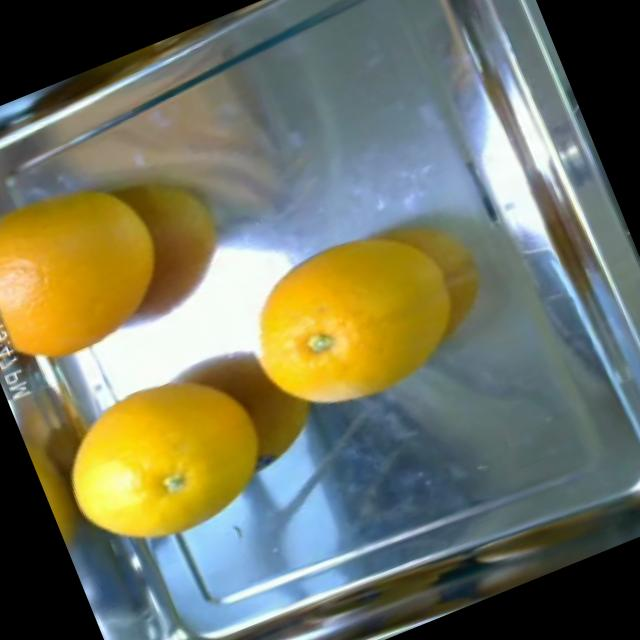Fruit: (292, 185, 515, 398)
